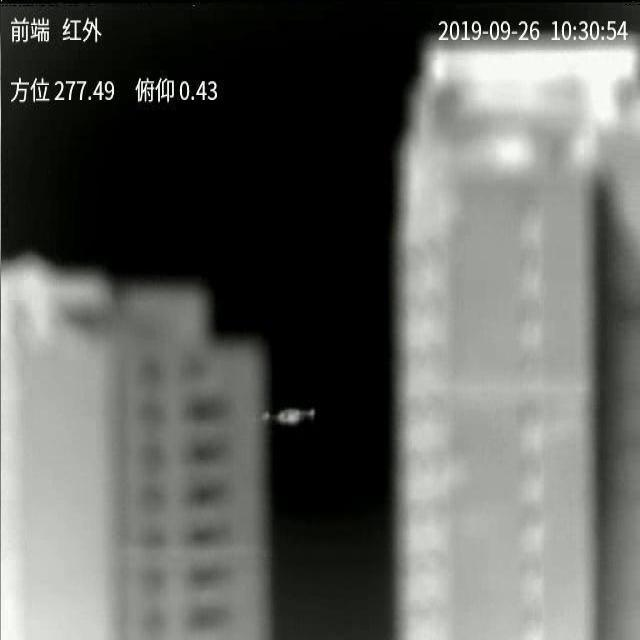drone: (260, 409, 316, 424)
